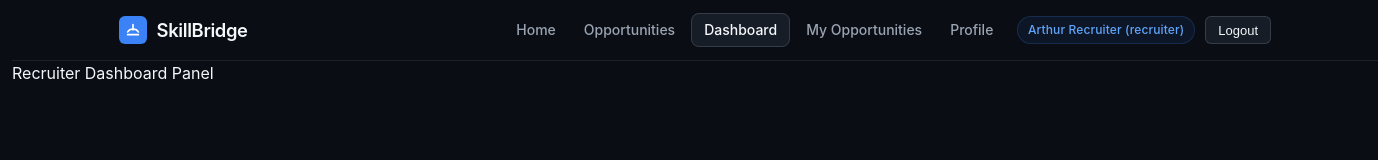
Scenario: Frontend System / UAT Tests — End-to-End User Workflows › System Journey 2: Recruiter navbar RBAC and navigation view validation
Check: the text "Arthur Recruiter (recruiter)" is shown, box [1017, 16, 1195, 44]
Check: the link "Dashboard" is shown, box [691, 13, 790, 47]
Note: Navigation to "My Opportunities"
Click the link "My Opportunities" at (864, 30), box [806, 22, 922, 39]
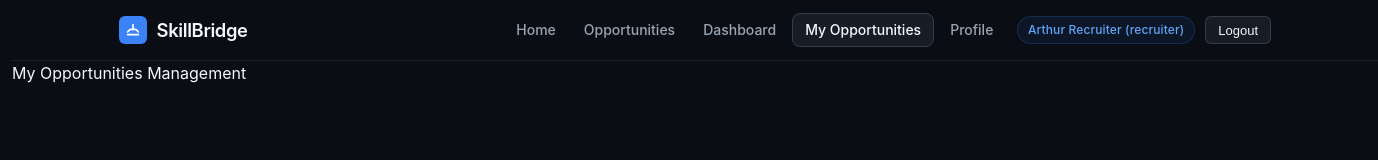
Check: the text "My Opportunities Management" is shown, box [12, 63, 246, 83]
